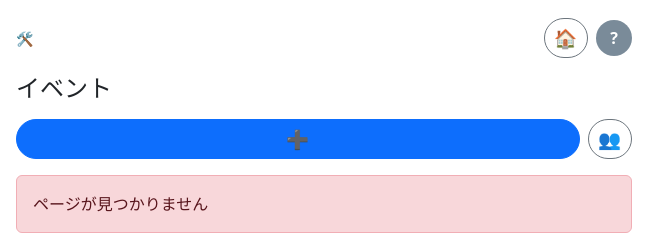
アカウントのアイコン › メールが無い(トークンでのログイン)ときは、汎用の表示にする
Click the button named "アカウントのメニュー": (614, 38) [596, 20, 632, 56]
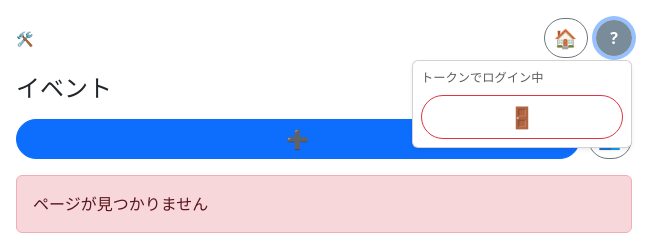
Now the text "トークンでログイン中" is shown, box [421, 69, 544, 86]
